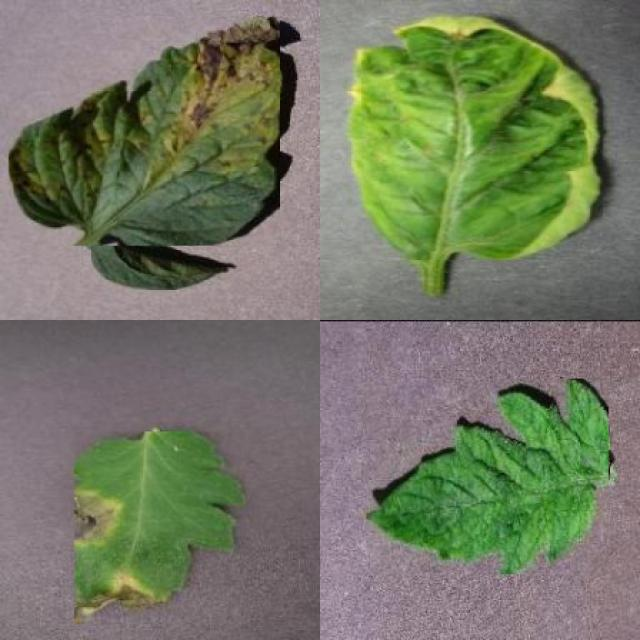Late Blight: (75, 432, 245, 624)
Mosaic Virus: (366, 379, 608, 574)
Septoria: (9, 16, 281, 246)
Yellow Leaf Curl Virus: (344, 14, 604, 260)
